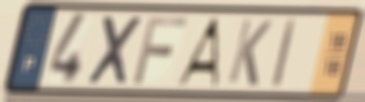4: (45, 9, 91, 90)
A: (173, 15, 223, 89)
F: (130, 15, 190, 87)
I: (269, 15, 300, 91)
K: (225, 17, 275, 89)
X: (85, 13, 146, 88)
